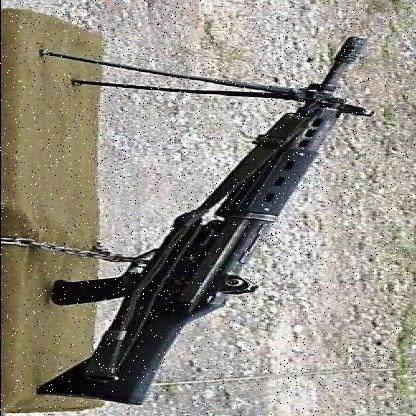rifle: (31, 34, 378, 410)
